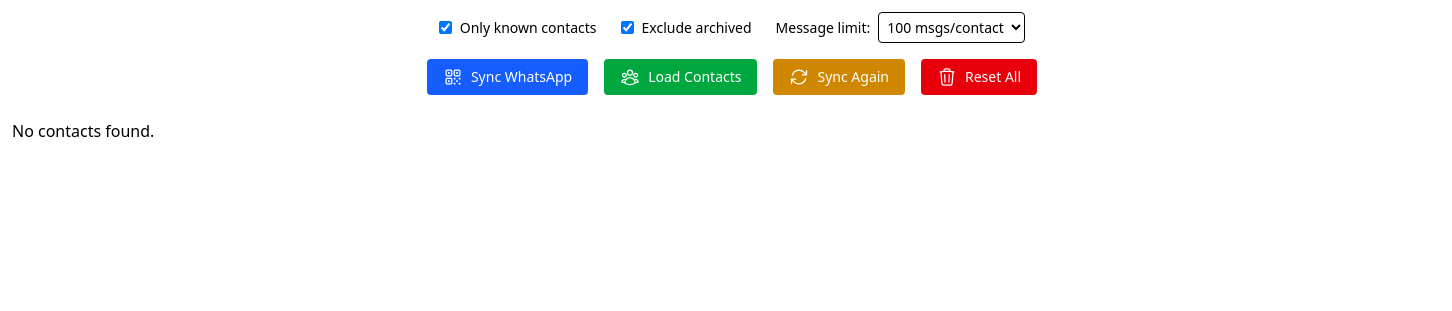
it: loads and displays contacts after clicking Load Contacts
Step 1. Click the button "Load Contacts" → (681, 77), box left=604, top=59, right=758, bottom=95
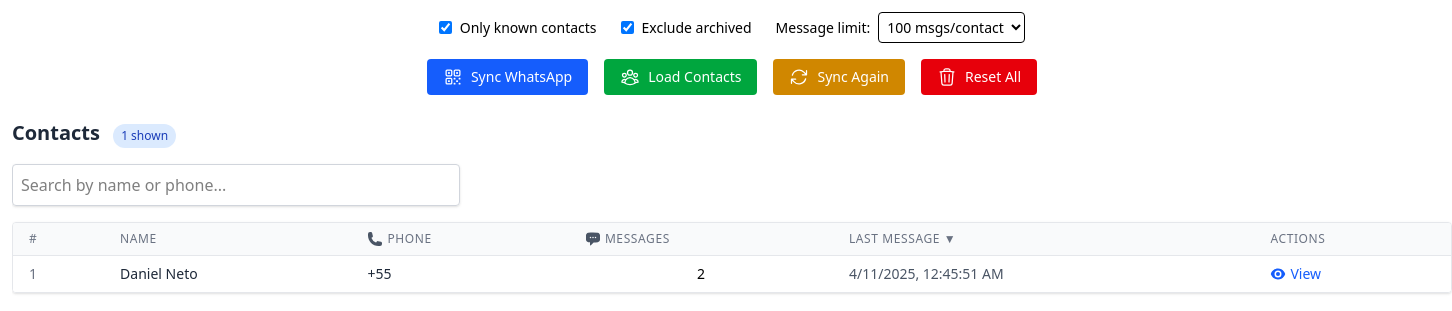
Result: the text "Daniel Neto" is shown at left=104, top=256, right=351, bottom=292
